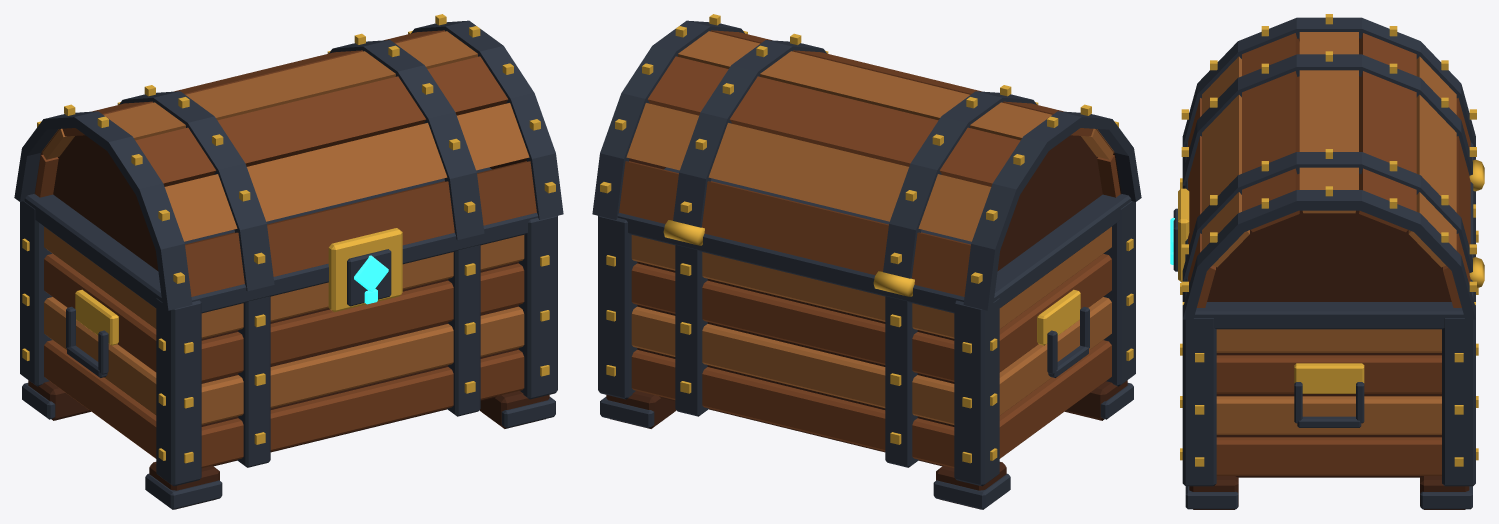
File: build_chest.glb
3 renders of one model, left to right at view 1: azimuth 30°, elevation 25°; view 2: azimuth 150°, elevation 25°; view 3: azimuth 270°, elevation 25°, orthographic. The views are drawn at different scales.
Visible parts, largest first — view 1: ChestBody, ChestLid, AetherClaspAndHandles; view 2: ChestBody, ChestLid, AetherClaspAndHandles; view 3: ChestLid, ChestBody, AetherClaspAndHandles.
Part boxes in pixels (box(x1,y1,x2,y2)): ChestBody: box(20, 167, 557, 509); ChestLid: box(14, 14, 563, 310); AetherClaspAndHandles: box(66, 228, 402, 377); ChestBody: box(598, 167, 1135, 509); ChestLid: box(592, 14, 1141, 310); AetherClaspAndHandles: box(1037, 289, 1089, 377); ChestLid: box(1181, 14, 1484, 319); ChestBody: box(1180, 142, 1478, 509); AetherClaspAndHandles: box(1170, 188, 1364, 427).
Bounding box in the file's own units: 1.1 × 0.863 × 0.763.
